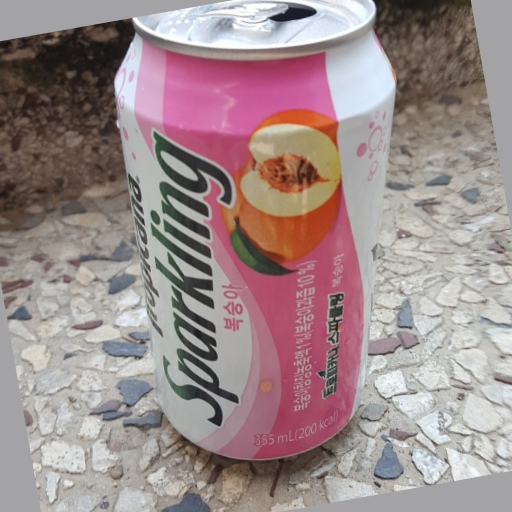Metal_0: (112, 2, 399, 462)
